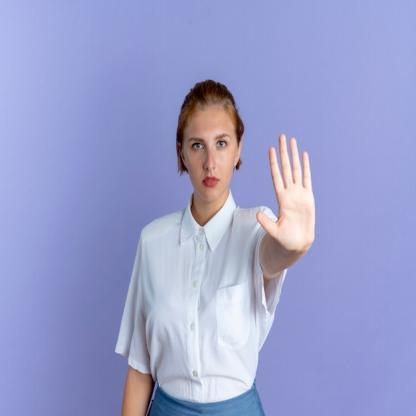stop: (254, 130, 318, 258)
